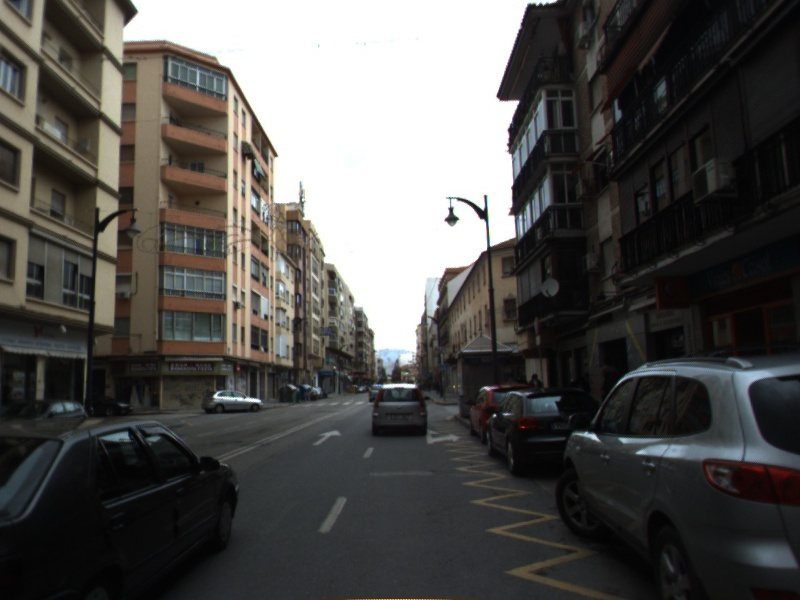STRAIGHT: (310, 428, 343, 447)
STRAIGHT_RIGHT: (424, 427, 463, 446)
